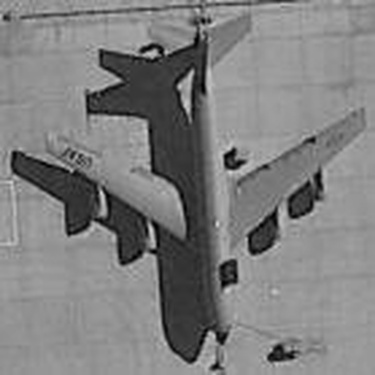airplane: (25, 5, 370, 349)
